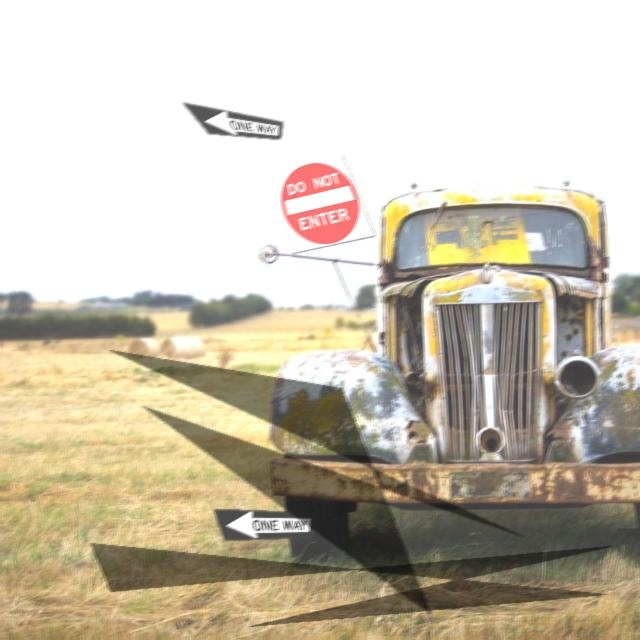DO_NOT_ENTER: (272, 155, 375, 255)
ONE_WAY_ left: (180, 102, 283, 141), (212, 509, 315, 542)
